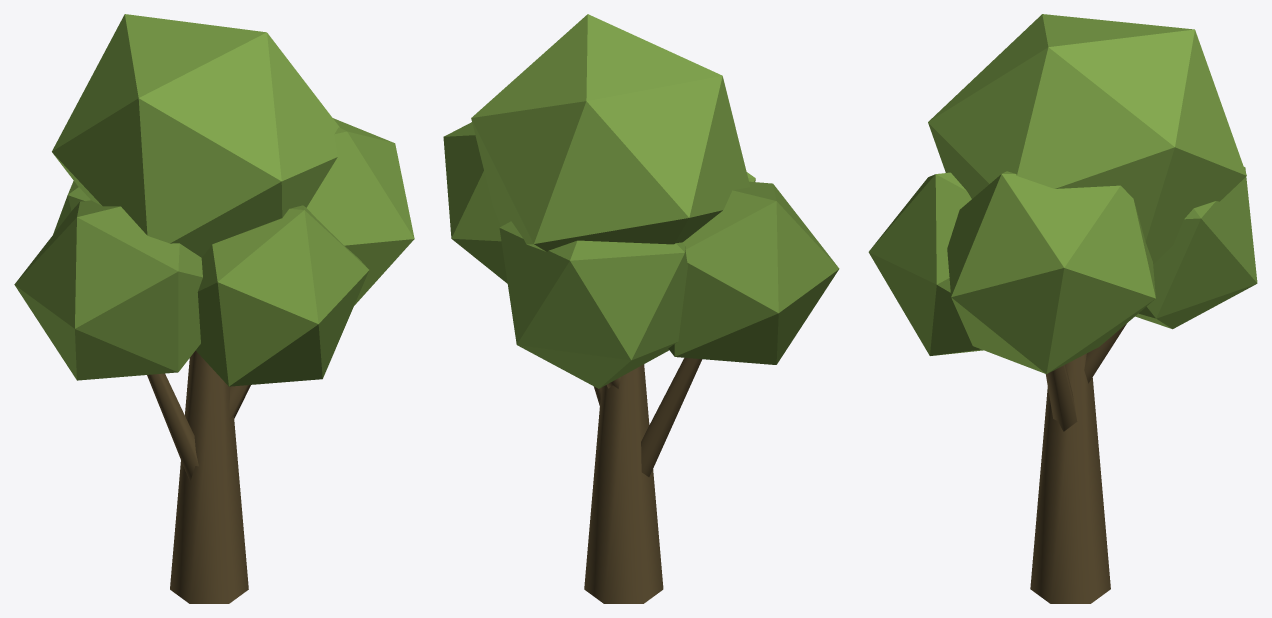
The model's file is Tree_Maple.glb.
The picture shows the model from 3 angles, left to right: view 1: azimuth 30°, elevation 25°; view 2: azimuth 150°, elevation 25°; view 3: azimuth 270°, elevation 25°; orthographic projection. The views are drawn at different scales.
Visible parts, largest first — view 1: Tree_Maple; view 2: Tree_Maple; view 3: Tree_Maple.
Boxes of the visible parts, x1,y1,x2,y2 form: Tree_Maple: [14, 14, 414, 603]; Tree_Maple: [443, 14, 839, 603]; Tree_Maple: [868, 14, 1257, 603].
Size of the model in its own units: 2.11 by 3.12 by 1.95.
